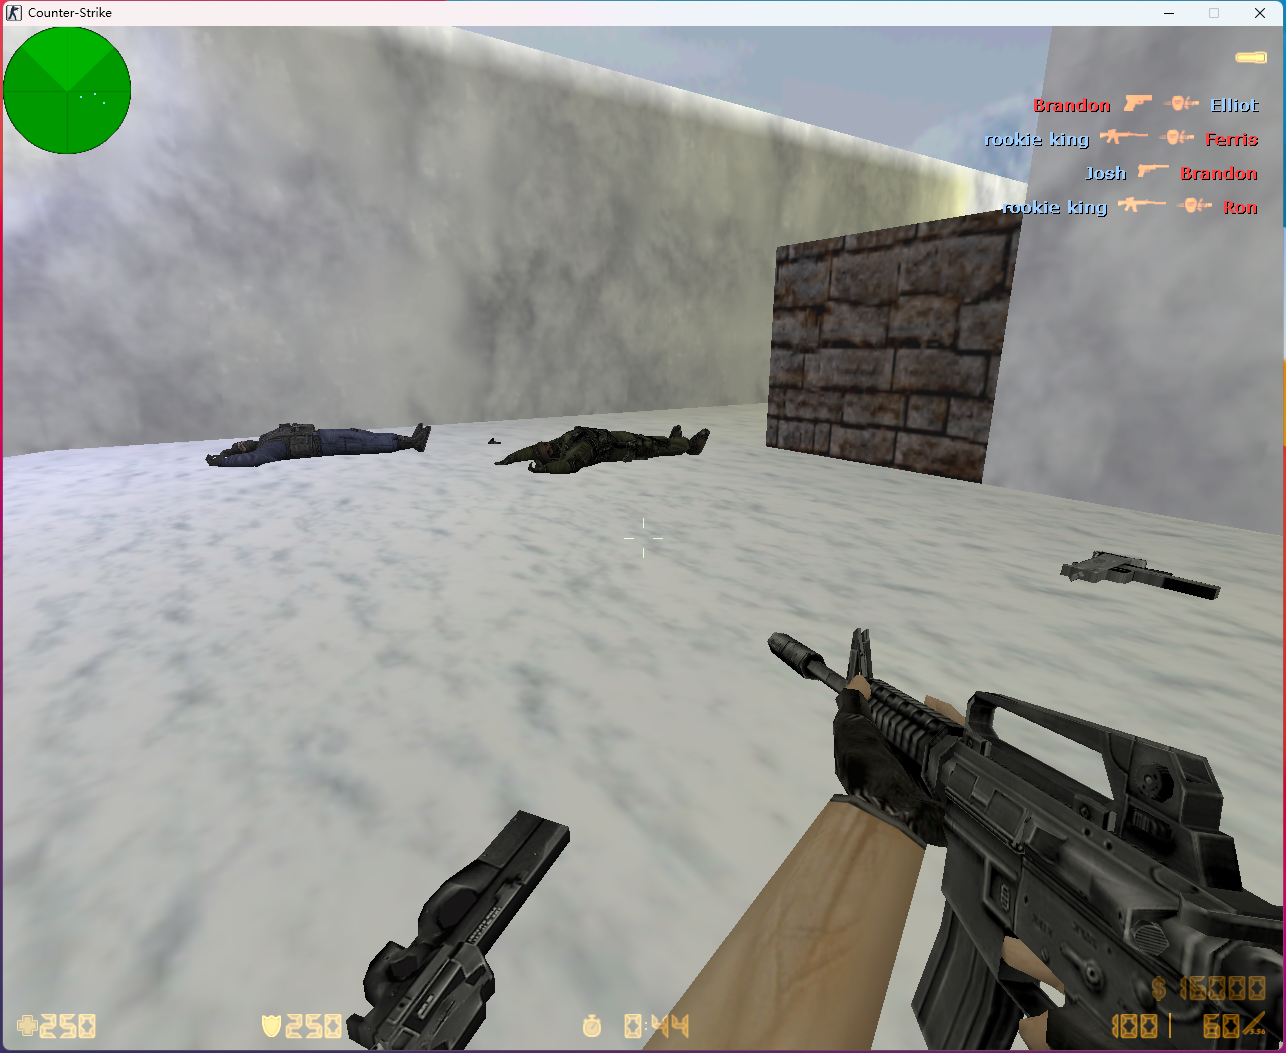dead: (195, 420, 428, 472), (492, 425, 710, 480)
weapon: (344, 807, 573, 1053), (1058, 532, 1225, 601)
